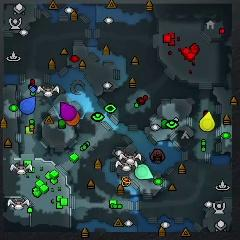p1: (19, 97, 36, 114)
p2: (135, 164, 154, 179)
p3: (60, 102, 76, 121)
p4: (199, 111, 215, 131)
p5: (66, 111, 81, 126)
